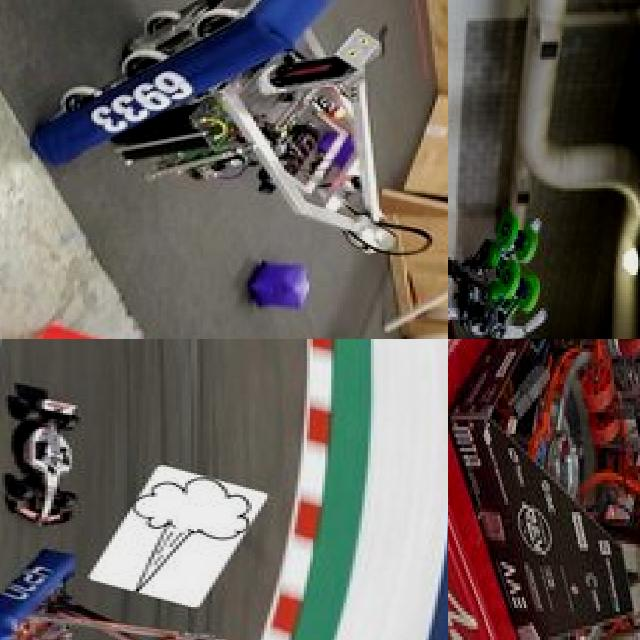FRC-Robots: (0, 0, 448, 264), (448, 339, 640, 640), (0, 536, 342, 640), (448, 88, 578, 339)
